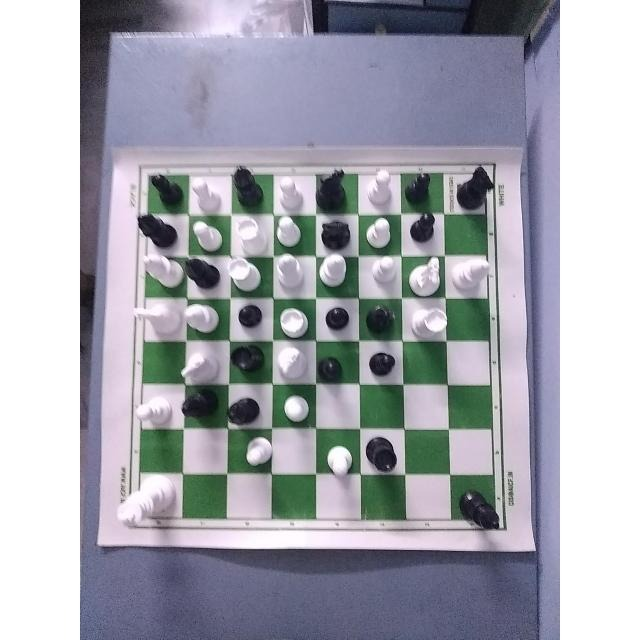black-bishop: (453, 490, 517, 538), (133, 207, 177, 252), (363, 302, 405, 344), (179, 248, 223, 287), (230, 161, 266, 208), (181, 386, 217, 426), (225, 393, 261, 428)
black-knight: (456, 161, 496, 215), (314, 162, 352, 214), (320, 214, 360, 252)
black-pawn: (358, 349, 406, 386), (144, 167, 186, 207), (315, 350, 361, 385), (232, 303, 272, 343), (406, 207, 447, 246), (325, 303, 363, 343), (400, 166, 439, 203)
black-rook: (229, 345, 269, 389), (362, 434, 406, 473)
white-bishop: (139, 250, 189, 298), (273, 252, 323, 293), (451, 254, 493, 297), (179, 301, 223, 340), (316, 253, 356, 295)
white-king: (113, 478, 177, 535), (130, 299, 181, 343)
white-knight: (409, 255, 449, 295), (175, 350, 217, 388), (272, 349, 311, 382)
white-pawn: (272, 214, 315, 252), (362, 169, 399, 213), (186, 173, 225, 214), (242, 430, 277, 472), (275, 177, 312, 215), (135, 395, 175, 430), (363, 218, 403, 252), (324, 442, 361, 478), (368, 252, 400, 293), (278, 392, 316, 426), (191, 217, 225, 253)
white-rook: (229, 213, 275, 254), (227, 257, 273, 297), (273, 301, 317, 342), (408, 300, 449, 341)
